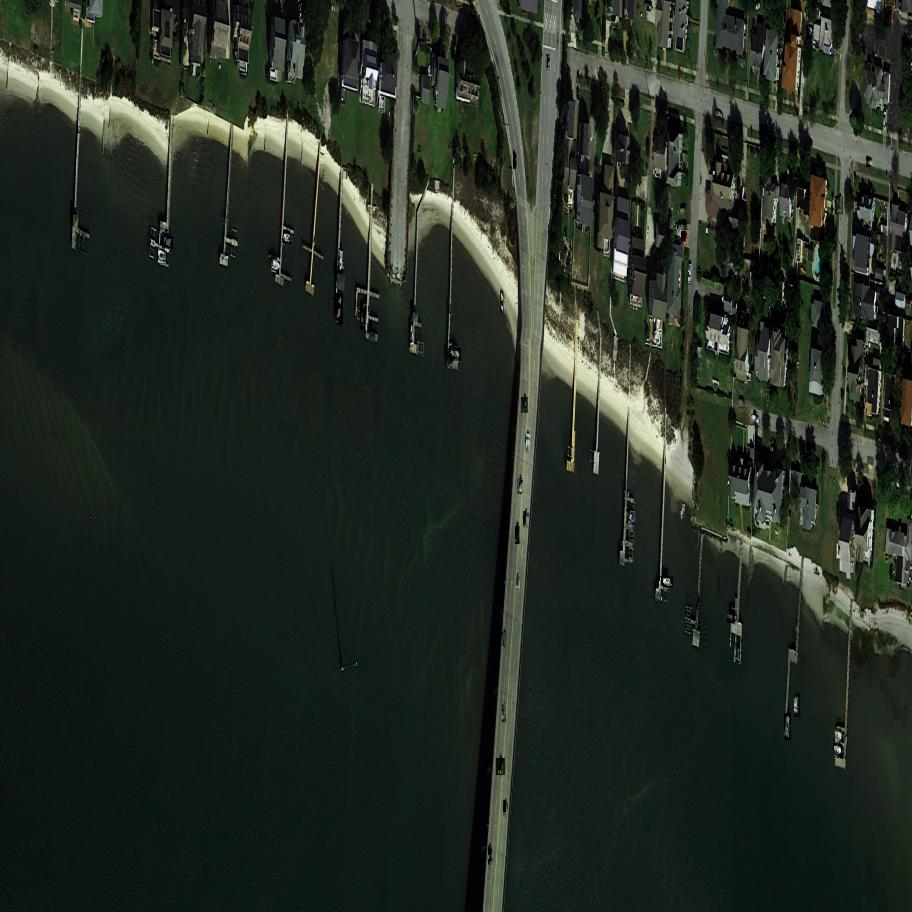ship: (336, 293, 345, 324), (360, 300, 368, 330), (449, 346, 462, 362), (784, 714, 792, 740), (750, 414, 764, 428), (662, 574, 674, 589), (833, 745, 845, 759), (158, 250, 169, 264), (339, 249, 346, 270), (162, 237, 174, 249), (271, 260, 281, 272), (283, 231, 293, 243), (795, 694, 800, 716), (728, 610, 736, 623), (680, 503, 686, 520), (628, 514, 638, 524), (836, 730, 842, 742), (501, 292, 504, 312), (855, 461, 859, 475), (410, 324, 413, 342)
small-vehicle: (496, 759, 506, 775), (517, 478, 526, 495), (884, 6, 891, 27), (806, 25, 815, 39), (836, 196, 843, 213), (522, 397, 529, 414), (743, 281, 750, 295), (523, 511, 529, 527), (515, 526, 520, 544), (769, 444, 778, 454), (741, 278, 746, 293), (516, 574, 521, 588), (502, 705, 506, 722), (688, 264, 692, 281), (546, 54, 550, 70), (503, 801, 507, 814), (300, 1, 303, 17), (514, 153, 517, 169), (502, 633, 506, 645), (890, 7, 893, 23), (738, 398, 743, 407), (679, 208, 685, 215), (760, 126, 767, 132), (681, 232, 685, 241), (676, 223, 681, 230), (526, 434, 528, 451), (716, 110, 720, 117), (682, 223, 686, 230), (867, 158, 870, 167), (489, 846, 490, 865)
